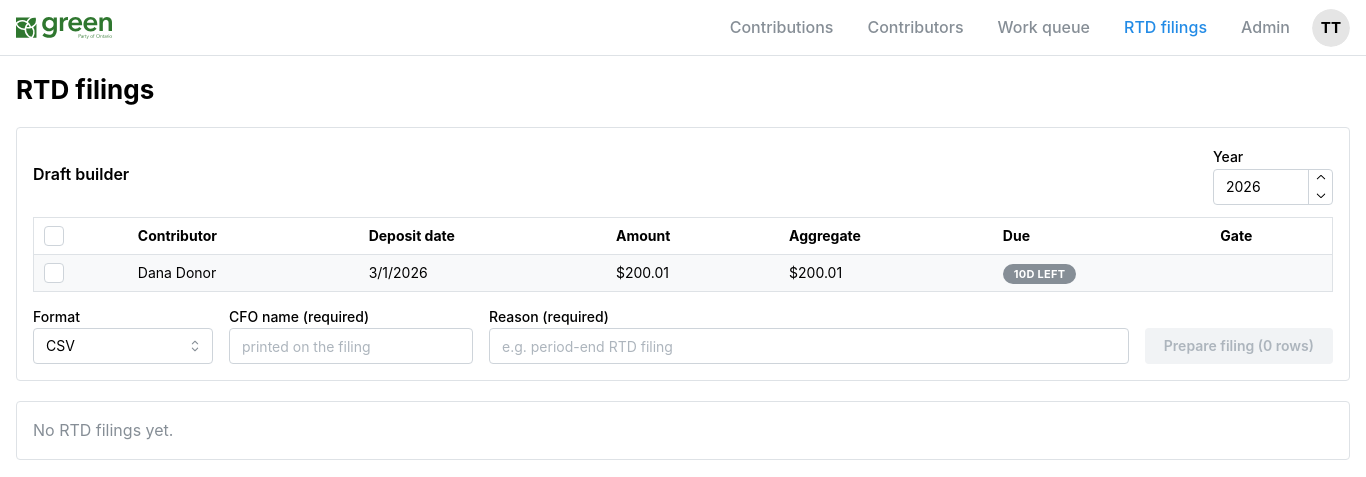
it: lists a draft row and lets it be selected for preparing
Expected: the text "Dana Donor" is shown, top-left (128, 254), bottom-right (359, 291)
Expected: the text "$200.01" is shown 2 times, top-left (606, 254), bottom-right (779, 291); top-left (779, 254), bottom-right (993, 291)
Click the checkbox named "Select Dana Donor". click: [54, 273]
box: top-left (44, 263), bottom-right (64, 283)
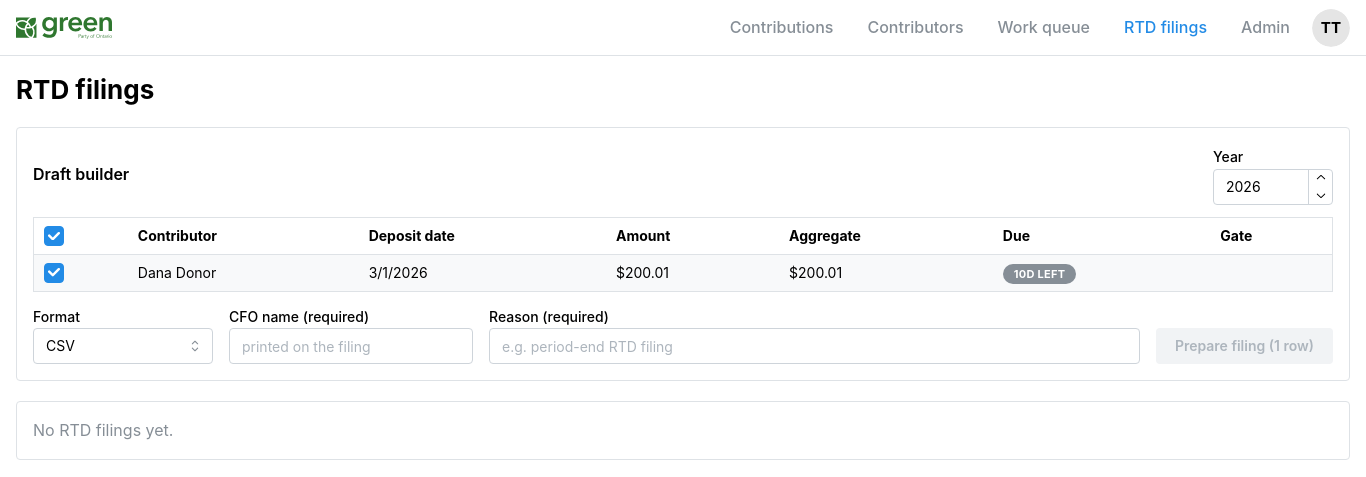
Now the button "Prepare filing (1 row)" is shown, box top-left (1156, 328), bottom-right (1333, 364)
